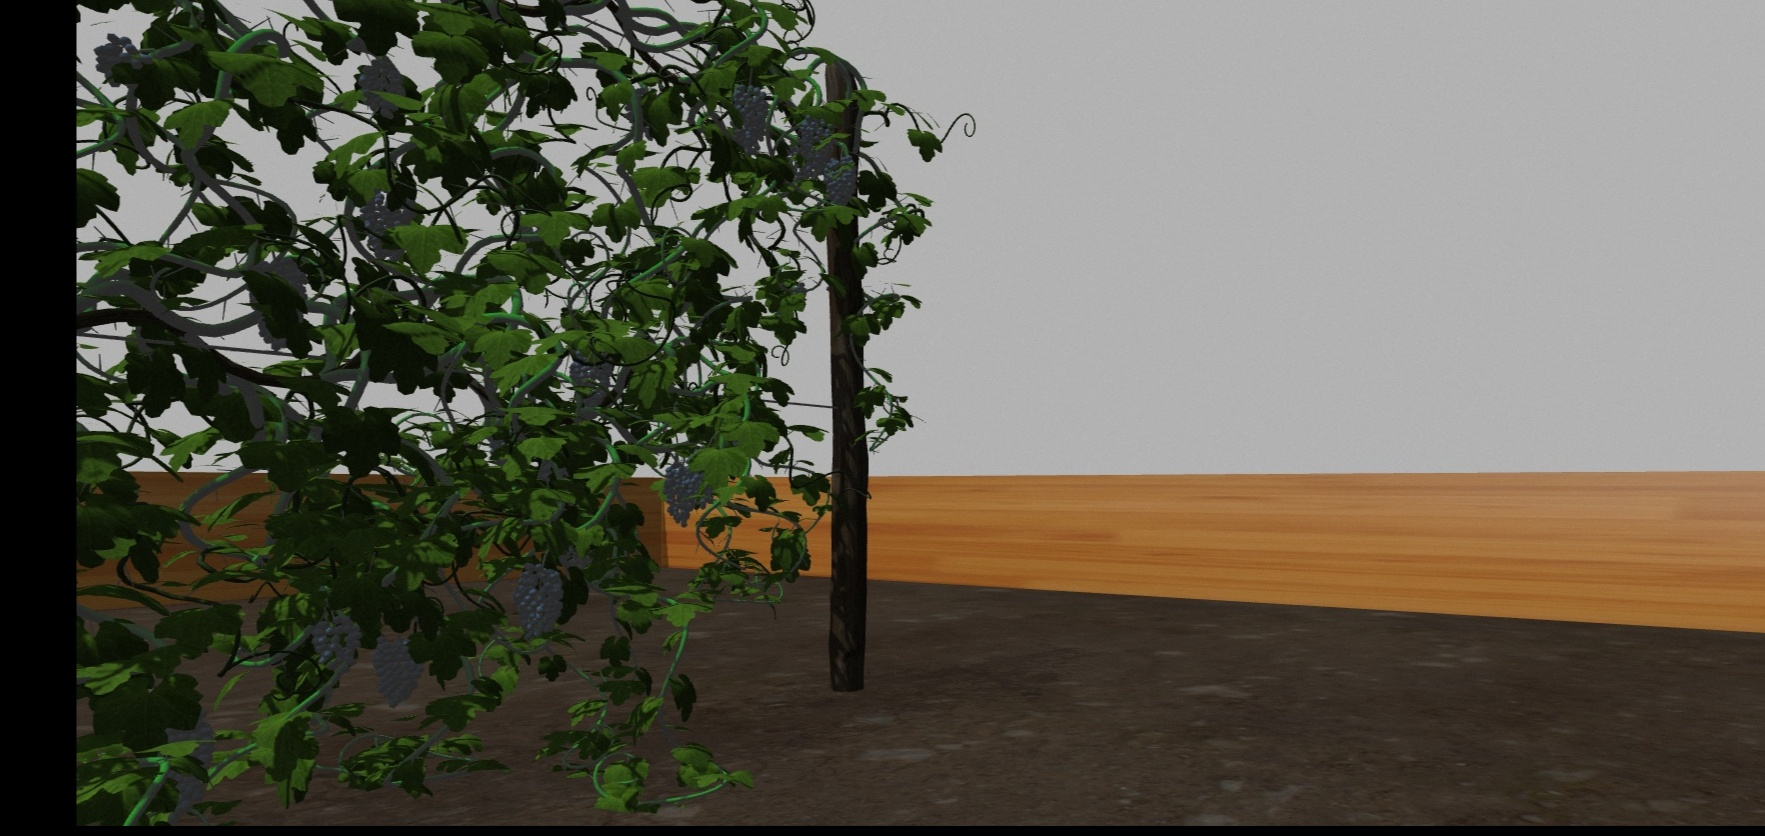grape: (159, 718, 216, 815), (368, 624, 424, 707), (514, 560, 563, 640), (311, 611, 361, 673), (726, 83, 768, 155), (353, 59, 407, 113), (794, 116, 836, 180), (568, 351, 615, 408), (92, 32, 143, 83), (661, 462, 698, 527), (825, 156, 855, 208)
